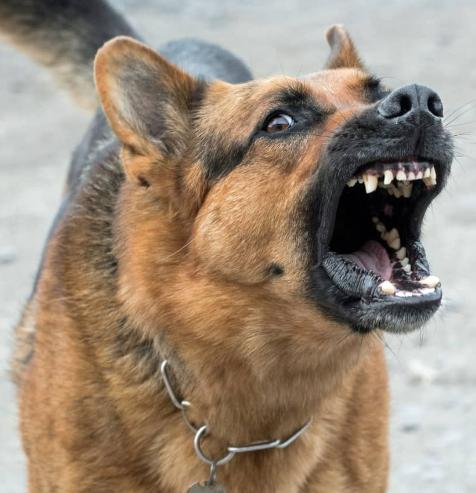dog_aggressive: (27, 31, 458, 489)
